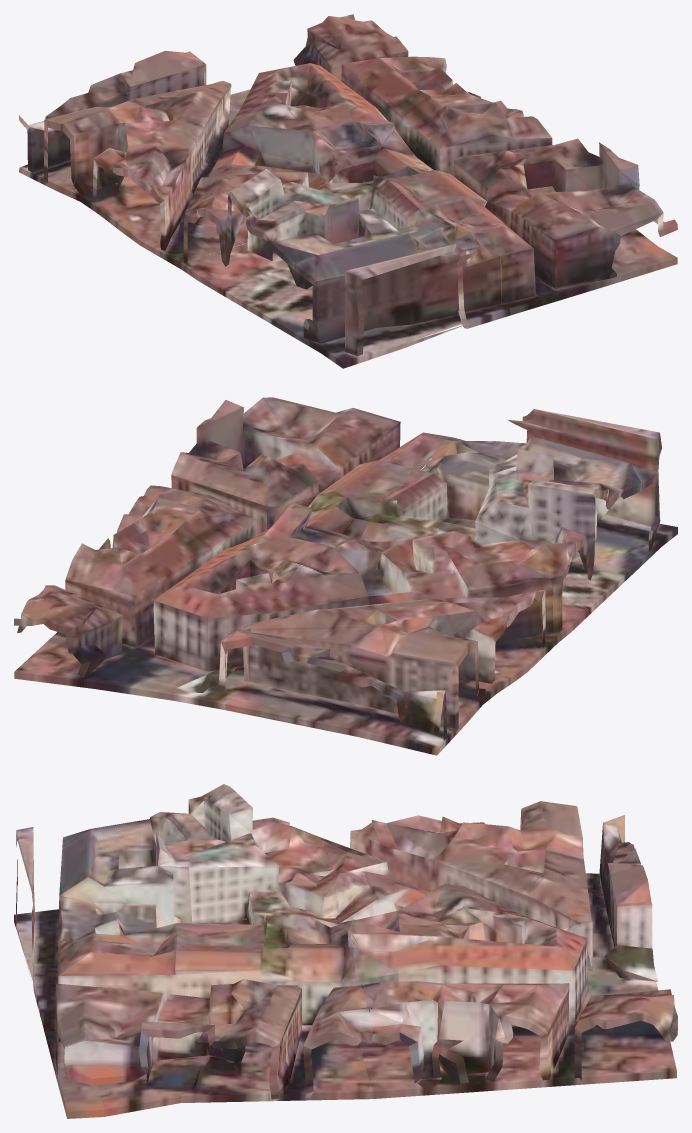
The picture shows the model from 3 angles, top to bottom: view 1: azimuth 30°, elevation 25°; view 2: azimuth 150°, elevation 25°; view 3: azimuth 270°, elevation 25°; orthographic projection. The views are drawn at different scales.
Parts seen in each view (by area): view 1: Mesh_0; view 2: Mesh_0; view 3: Mesh_0.
Boxes of the visible parts, x1,y1,x2,y2 form: Mesh_0: (19, 14, 677, 368); Mesh_0: (14, 397, 677, 755); Mesh_0: (14, 784, 677, 1118).
Size of the model in its own units: 135 by 35.62 by 165.
1 material, 1 textured.
